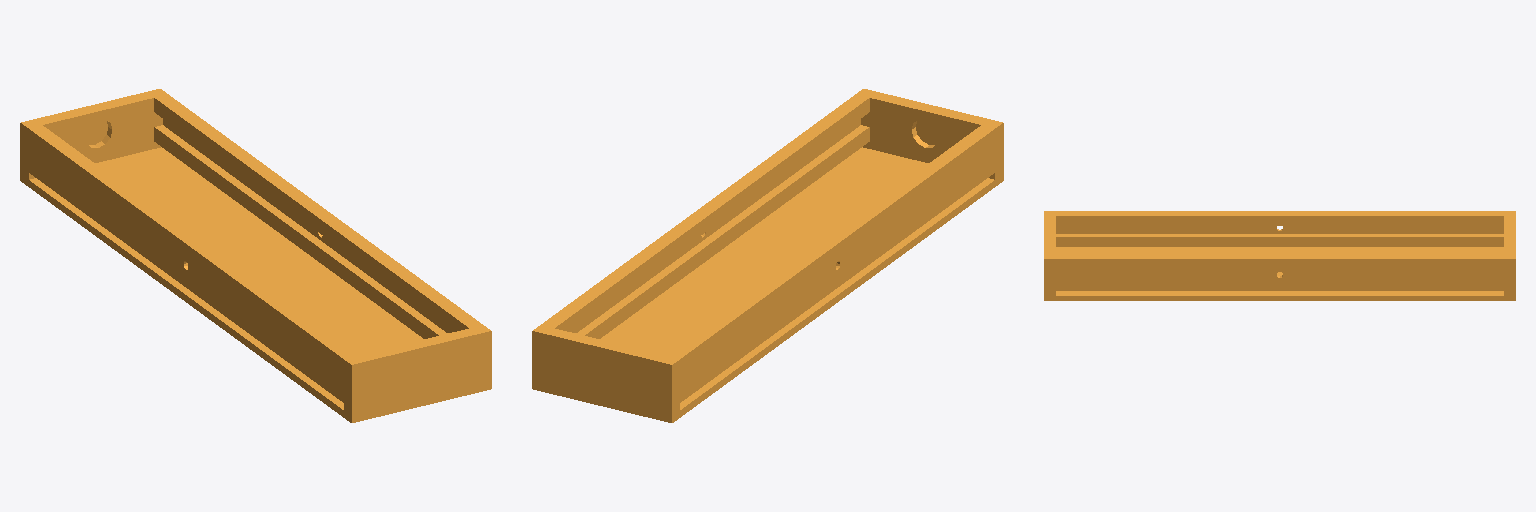
robot.urdf — solidworks2ros_try1:
<?xml version="1.0" encoding="utf-8"?>
<!-- This URDF was automatically created by SolidWorks to URDF Exporter! Originally created by [author] ([email redacted]) 
     Commit Version: 1.6.0-4-g7f85cfe  Build Version: 1.6.7995.38578
     For more information, please see http://wiki.ros.org/sw_urdf_exporter -->
<robot
  name="solidworks2ros_try1">
  <link
    name="base_link">
    <inertial>
      <origin
        xyz="4.4409E-16 -1.3323E-15 -0.13251"
        rpy="0 0 0" />
      <mass
        value="939.86" />
      <inertia
        ixx="2643.5"
        ixy="-1.9222E-13"
        ixz="1.0497E-13"
        iyy="230.15"
        iyz="7.9816E-14"
        izz="2821.5" />
    </inertial>
    <visual>
      <origin
        xyz="1 1 1"
        rpy="0 0 0" />
      <geometry>
        <mesh
          filename="package://solidworks2ros_try1/meshes/base_link.STL" />
      </geometry>
      <material
        name="">
        <color
          rgba="1 0.72157 0.32941 1" />
      </material>
    </visual>
    <collision>
      <origin
        xyz="0 0 0"
        rpy="0 0 0" />
      <geometry>
        <mesh
          filename="package://solidworks2ros_try1/meshes/base_link.STL" />
      </geometry>
    </collision>
  </link>
</robot>

--- Render facts (derived) ---
Views: 3 orthographic renders of the robot side by side, from view 1: azimuth 30°, elevation 25°; view 2: azimuth 150°, elevation 25°; view 3: azimuth 270°, elevation 25°.
Robot: solidworks2ros_try1 — 1 links, 0 joints (none); root link base_link; default pose: all joints at 0.
Visible links, largest first — view 1: base_link; view 2: base_link; view 3: base_link.
Boxes of the visible links, box(x1,y1,x2,y2) form: base_link: box(20, 89, 491, 422); base_link: box(532, 89, 1003, 422); base_link: box(1044, 211, 1515, 300).
Size in the robot's own frame: 1.27 by 5.21 by 0.508 metres.
1 mesh visuals loaded from 1 distinct referenced files (1 binary STL).